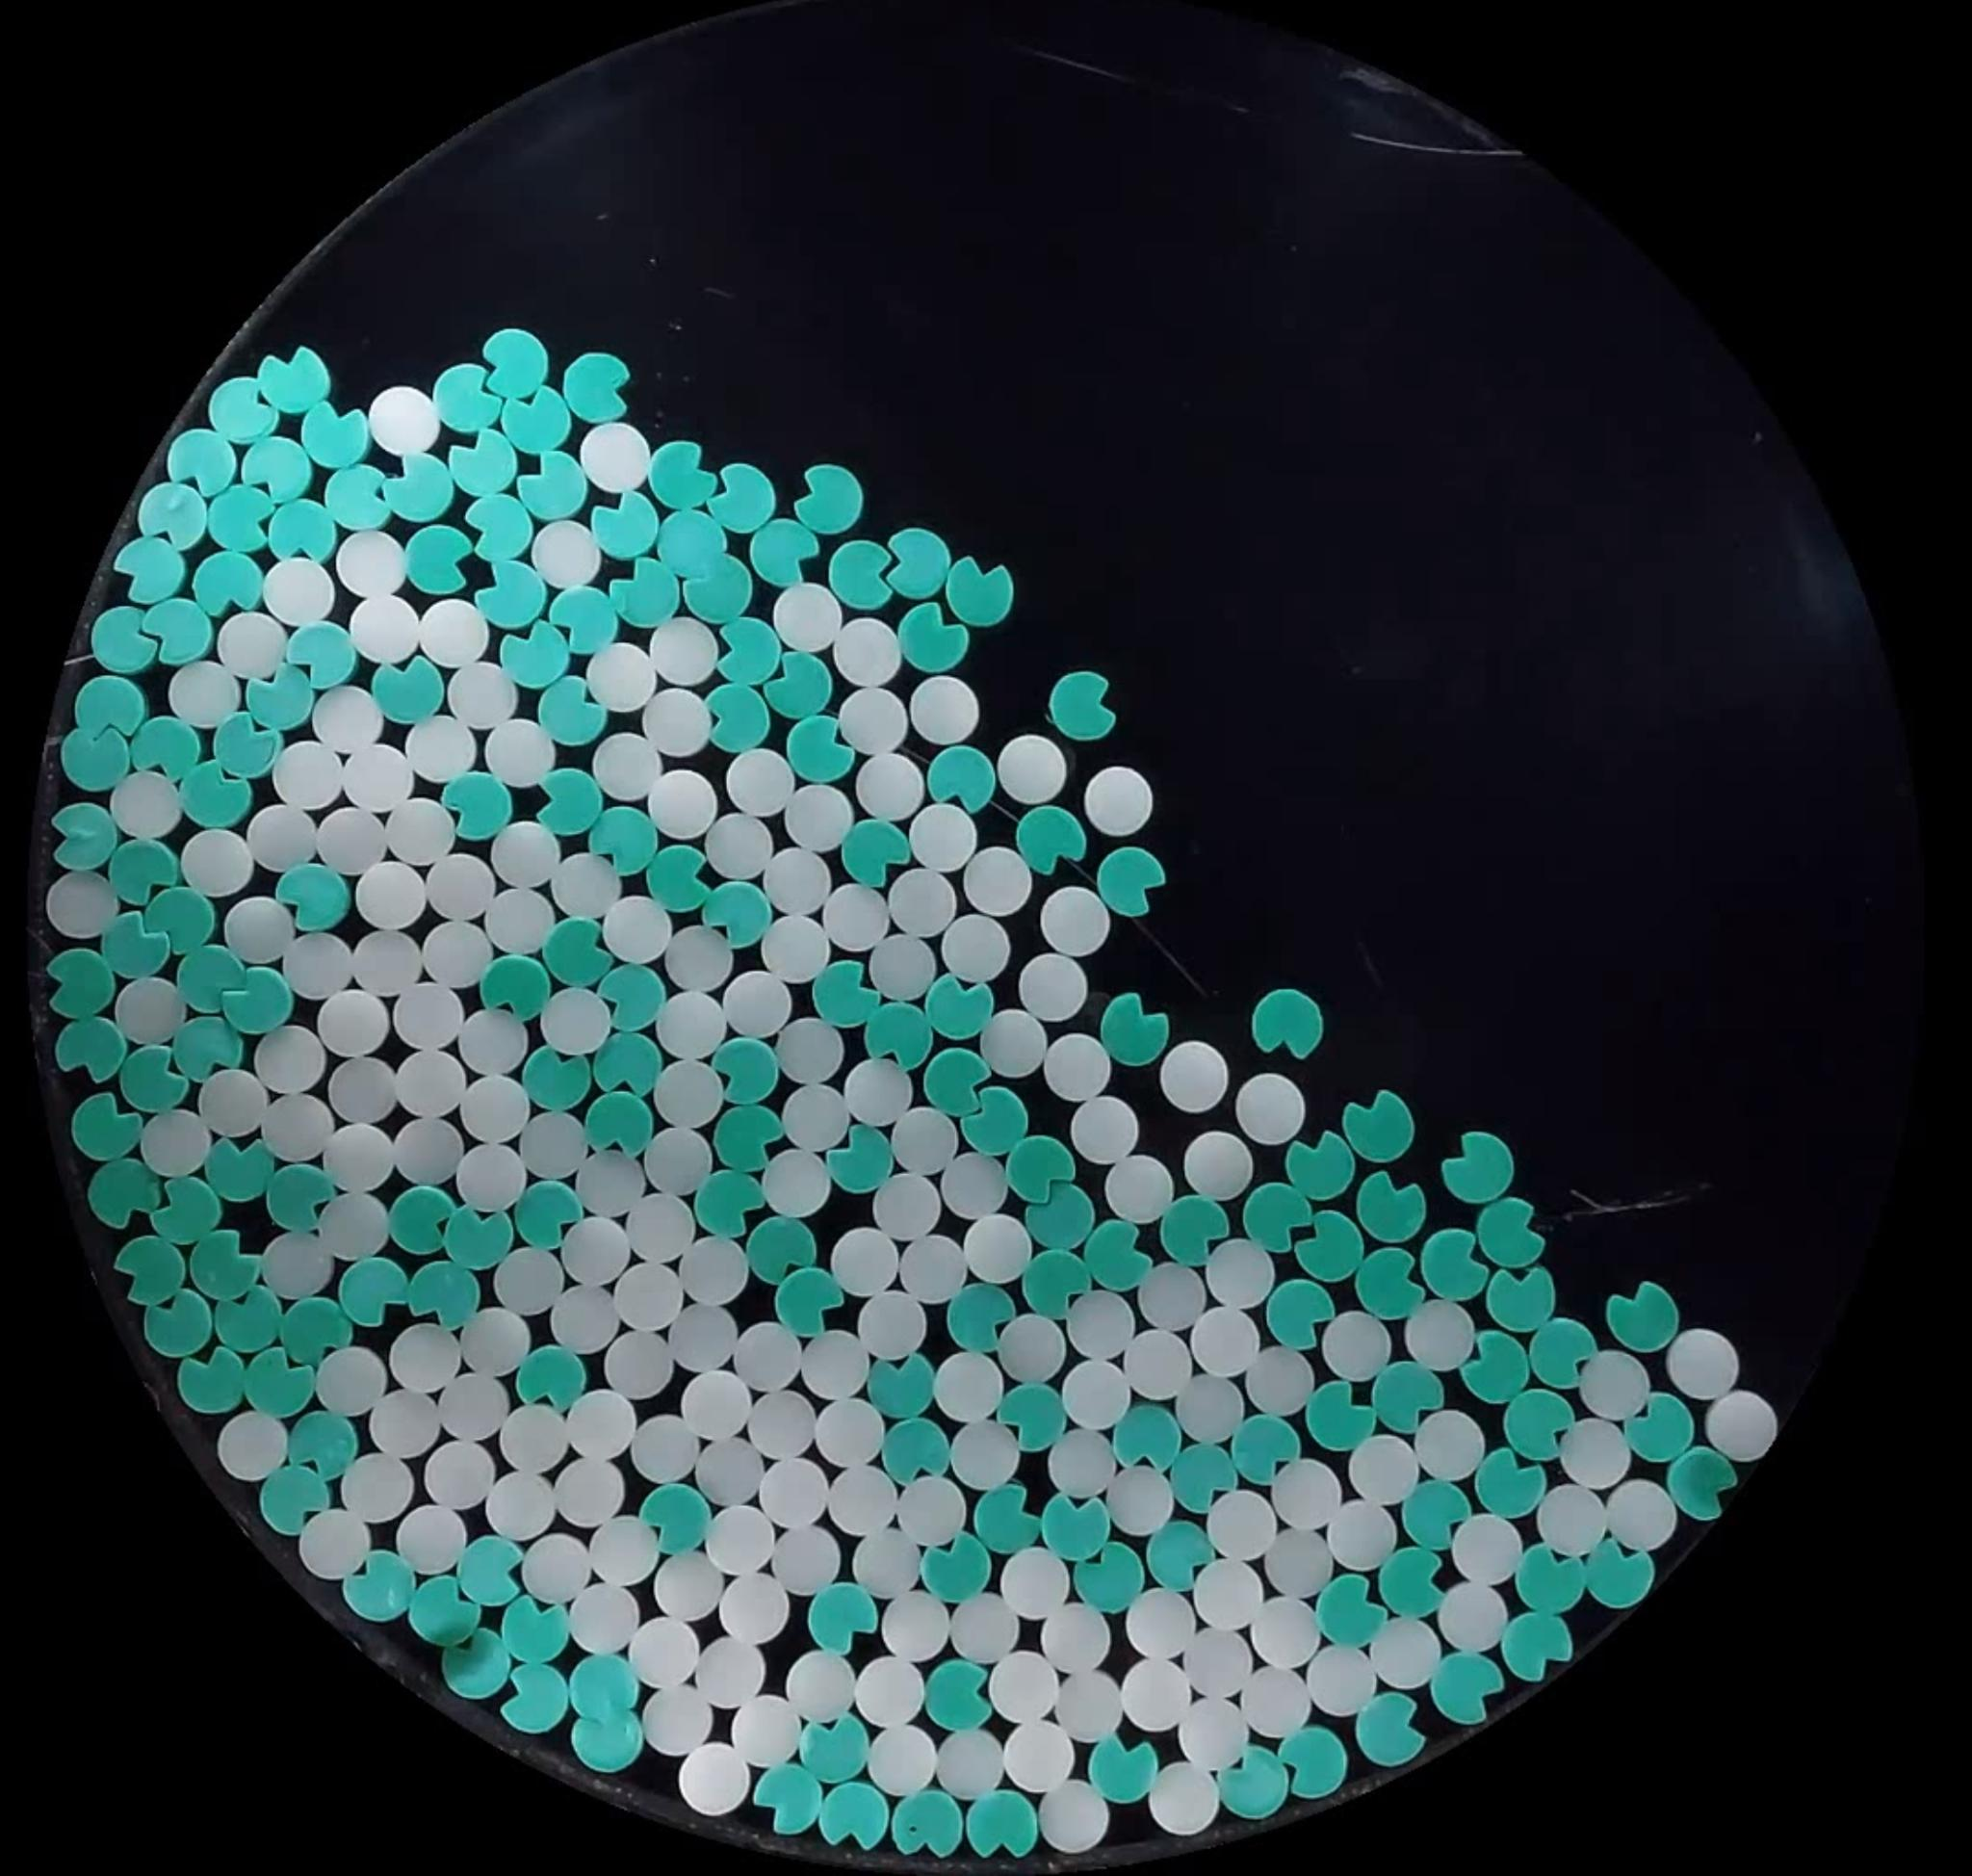disco-pmma: (1097, 1140, 1180, 1219), (1063, 1356, 1141, 1439), (1298, 1643, 1382, 1719), (956, 1210, 1039, 1286), (1319, 1496, 1403, 1569), (602, 1316, 680, 1395), (949, 1589, 1026, 1668), (840, 1520, 921, 1596), (715, 1566, 791, 1645), (861, 1288, 937, 1367), (893, 1473, 972, 1548), (1176, 1689, 1250, 1770), (565, 1578, 637, 1661), (391, 1117, 475, 1187), (585, 1517, 662, 1592), (1120, 1656, 1196, 1733), (650, 1548, 725, 1626), (949, 1418, 1025, 1496), (1180, 1624, 1257, 1700), (495, 1247, 574, 1321), (655, 918, 736, 990), (551, 1453, 627, 1529), (393, 1046, 468, 1122), (759, 1457, 835, 1533), (1534, 1481, 1609, 1557), (639, 1684, 717, 1758), (1666, 1326, 1743, 1400), (671, 1298, 743, 1377), (1000, 1547, 1074, 1622), (1435, 1580, 1511, 1654), (423, 1439, 497, 1515), (338, 740, 414, 814), (988, 1652, 1062, 1728), (692, 1434, 768, 1508), (1576, 1349, 1652, 1423), (1002, 1721, 1076, 1797), (1701, 1390, 1777, 1464), (1556, 1416, 1630, 1492), (1116, 1462, 1190, 1538), (1192, 1304, 1266, 1379), (1245, 1589, 1321, 1663), (220, 895, 298, 967), (1123, 1323, 1196, 1400), (393, 1323, 470, 1395), (741, 1386, 819, 1459), (898, 1231, 979, 1300), (784, 1651, 857, 1725), (558, 1215, 632, 1289), (627, 1615, 701, 1689), (706, 1503, 780, 1577), (1240, 1665, 1313, 1739), (1146, 1762, 1220, 1835), (180, 828, 255, 900), (445, 657, 521, 729), (458, 1073, 533, 1145), (852, 1656, 924, 1732), (454, 1141, 530, 1214), (1606, 1478, 1678, 1554), (389, 983, 465, 1055), (681, 1367, 754, 1443), (416, 597, 491, 669), (519, 1533, 592, 1608), (1203, 1242, 1278, 1314), (489, 1466, 558, 1545), (585, 641, 659, 713), (486, 881, 558, 955), (657, 986, 729, 1060), (340, 1453, 414, 1525), (1414, 1409, 1486, 1483), (271, 740, 345, 812), (424, 851, 498, 923), (354, 860, 428, 932), (497, 1404, 569, 1478), (1403, 1298, 1475, 1372), (602, 895, 676, 967), (282, 928, 356, 1001), (1347, 1434, 1419, 1508), (109, 770, 183, 842), (866, 1725, 938, 1798), (296, 1508, 370, 1580), (349, 594, 423, 666), (933, 1726, 1005, 1800), (678, 1742, 752, 1814), (565, 1390, 637, 1464), (44, 870, 120, 941), (261, 557, 336, 627), (796, 1325, 872, 1395), (519, 1110, 590, 1185), (1051, 1663, 1122, 1739), (641, 687, 713, 759), (139, 1108, 211, 1180), (482, 717, 555, 789), (611, 1259, 683, 1332), (254, 1025, 326, 1097), (907, 675, 979, 747), (217, 1409, 289, 1481), (785, 780, 857, 853), (317, 988, 391, 1059), (761, 911, 835, 981), (310, 683, 384, 754), (368, 386, 442, 456), (320, 1119, 394, 1189), (1035, 1781, 1109, 1851), (352, 923, 421, 999), (865, 928, 942, 995), (720, 969, 792, 1039), (405, 713, 477, 784), (648, 768, 718, 840), (725, 747, 796, 819), (648, 617, 720, 687), (1016, 951, 1088, 1022), (831, 617, 901, 689), (421, 920, 493, 990), (313, 1346, 386, 1416), (489, 819, 562, 890), (997, 735, 1069, 805), (579, 423, 651, 493), (1236, 1071, 1306, 1143), (329, 1055, 400, 1127), (320, 1191, 393, 1261), (938, 1147, 1009, 1219), (940, 1349, 1011, 1422), (995, 1312, 1067, 1383), (313, 805, 387, 874), (387, 794, 456, 868), (703, 812, 776, 881), (261, 1231, 335, 1300), (1261, 1527, 1335, 1596), (1377, 1615, 1446, 1689), (731, 1689, 798, 1765), (1203, 1492, 1278, 1559), (880, 1596, 956, 1663), (835, 1460, 900, 1538), (257, 1097, 336, 1161), (854, 750, 924, 821), (822, 883, 893, 953), (114, 976, 185, 1046), (1159, 1043, 1229, 1113), (623, 1193, 694, 1263), (1062, 1293, 1132, 1363), (1268, 1460, 1338, 1531), (541, 988, 613, 1057), (335, 530, 407, 599), (197, 1069, 269, 1138), (1453, 1513, 1521, 1585), (166, 661, 239, 728), (250, 805, 324, 872), (461, 1309, 535, 1376), (843, 1055, 910, 1129), (1326, 1316, 1400, 1383), (1169, 1381, 1245, 1446), (1238, 1349, 1315, 1413), (1187, 1561, 1264, 1624), (1181, 1131, 1252, 1200), (940, 912, 1009, 983), (773, 581, 843, 650), (1085, 766, 1153, 837), (1041, 886, 1109, 956), (217, 609, 287, 678), (532, 520, 602, 588), (657, 1059, 725, 1129), (766, 1150, 836, 1219), (1071, 1097, 1141, 1166), (440, 1372, 507, 1444), (695, 1633, 759, 1709), (963, 846, 1032, 914), (909, 803, 977, 872), (394, 1508, 463, 1577), (761, 844, 831, 911), (886, 1101, 953, 1171), (872, 1173, 938, 1244), (835, 1226, 901, 1296), (775, 1524, 845, 1591), (630, 1413, 703, 1478), (370, 1390, 445, 1451), (738, 1323, 801, 1395), (553, 1282, 618, 1351), (650, 1126, 715, 1194), (782, 1087, 850, 1152), (460, 1008, 530, 1071), (815, 1404, 886, 1467), (986, 1006, 1048, 1078), (599, 729, 664, 796), (681, 1237, 747, 1304), (555, 847, 622, 912), (1056, 1429, 1123, 1494), (785, 1015, 847, 1085), (1129, 1587, 1190, 1658), (843, 689, 909, 754), (578, 1150, 641, 1217), (1141, 1267, 1206, 1330), (896, 865, 956, 934), (1046, 1601, 1104, 1665), (1048, 1036, 1104, 1101)
